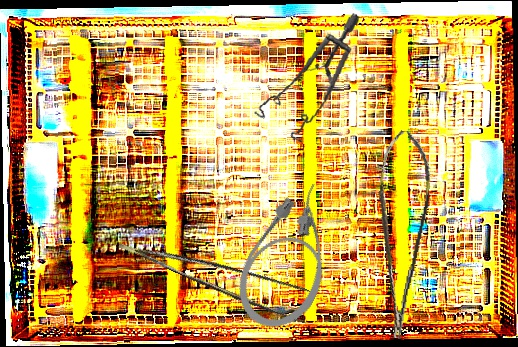Cannula: (223, 172, 360, 342)
Micro Scissor: (353, 127, 441, 341)
Speculum: (250, 1, 362, 150)
Tissue Forceps: (118, 212, 324, 332)
